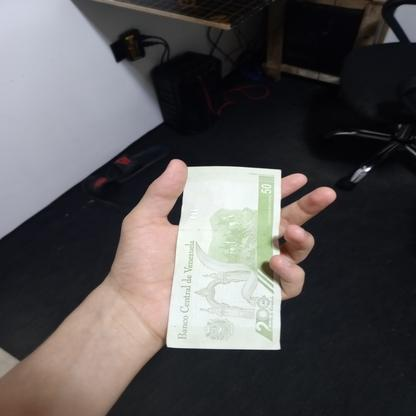fifty-back-vef: (166, 166, 282, 348)
